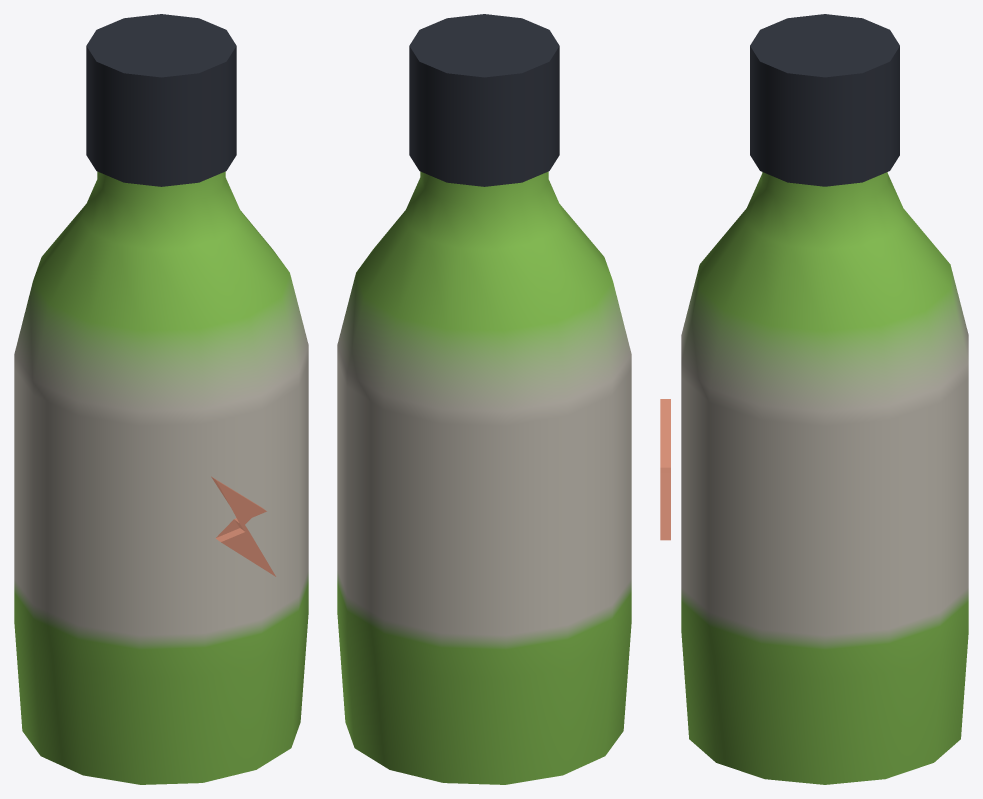
The model's file is item_drink.glb.
3 views of the same model, side by side, from view 1: azimuth 30°, elevation 25°; view 2: azimuth 150°, elevation 25°; view 3: azimuth 270°, elevation 25° (orthographic).
Parts seen in each view (by area): view 1: drink; view 2: drink; view 3: drink.
Boxes of the visible parts, box(x1,y1,x2,y2) form: drink: box(14, 14, 308, 784); drink: box(337, 14, 631, 784); drink: box(660, 14, 968, 784).
Bounding box in the file's own units: 0.11 × 0.285 × 0.1151.
